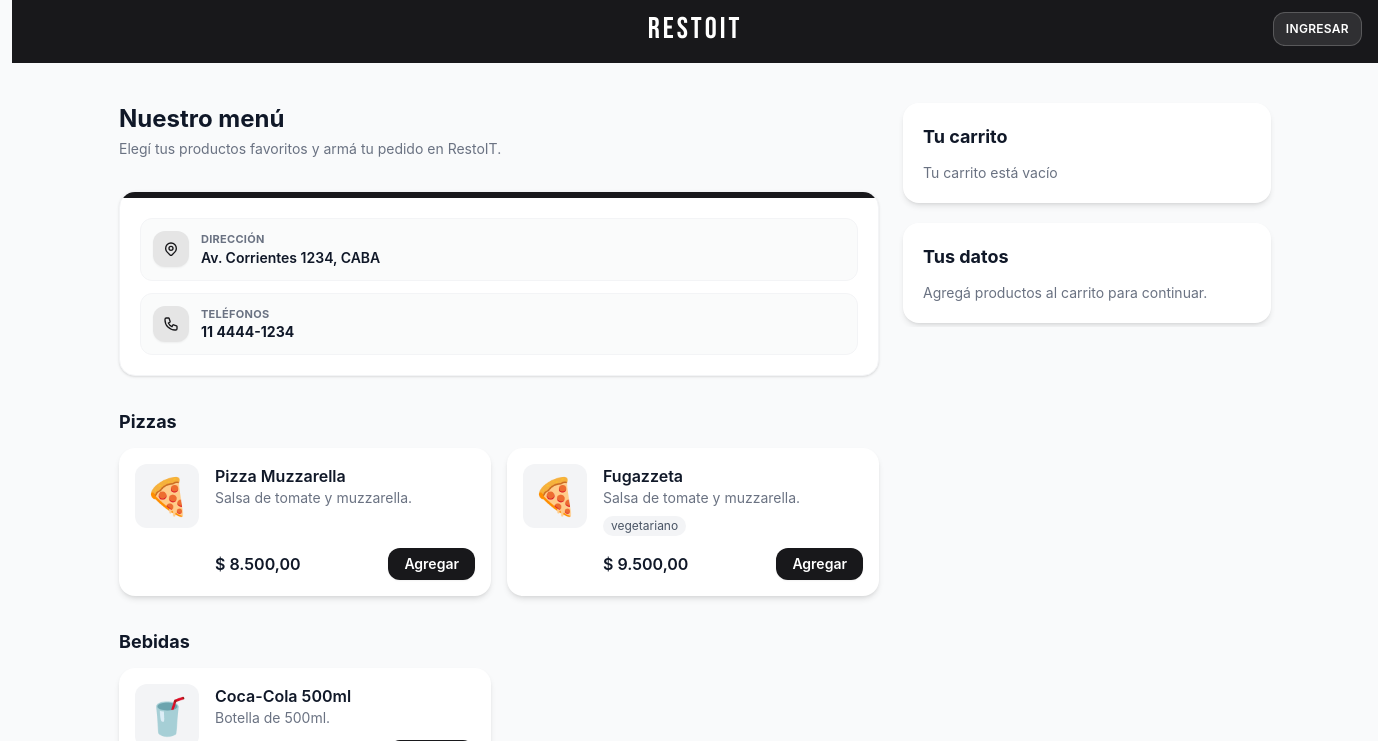
it: MenuPage › sin horarios configurados no muestra el aviso de cerrado
Expected: the heading "Pizza Muzzarella" is shown, 215,466 -> 346,486
Click the button "Agregar" next to "$ 8.500,00": [432, 564] box 388,548 -> 475,580
(page scrolled)
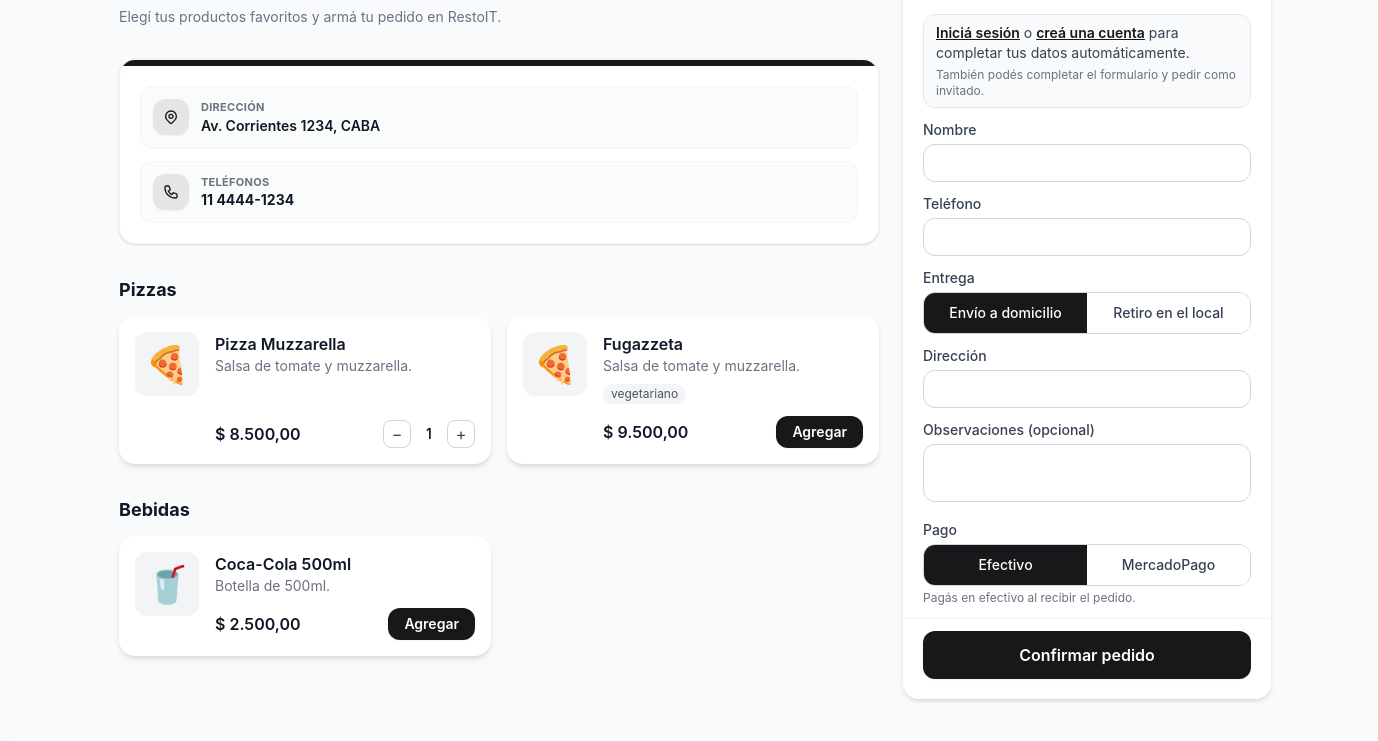
Result: the button "Confirmar pedido" is shown at 923,631 -> 1251,679
